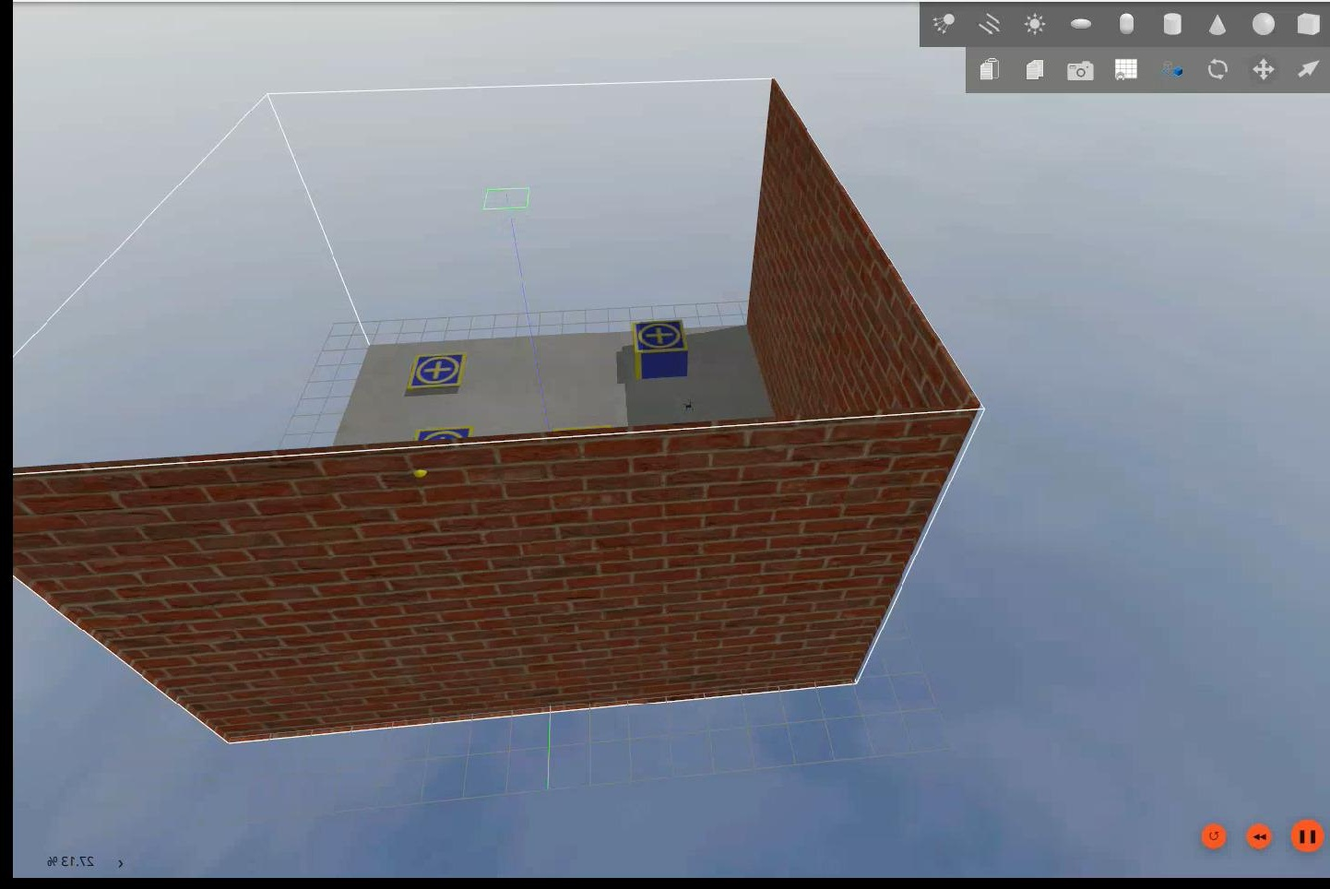small_base: (403, 350, 465, 393), (628, 317, 686, 356), (411, 426, 472, 444)
